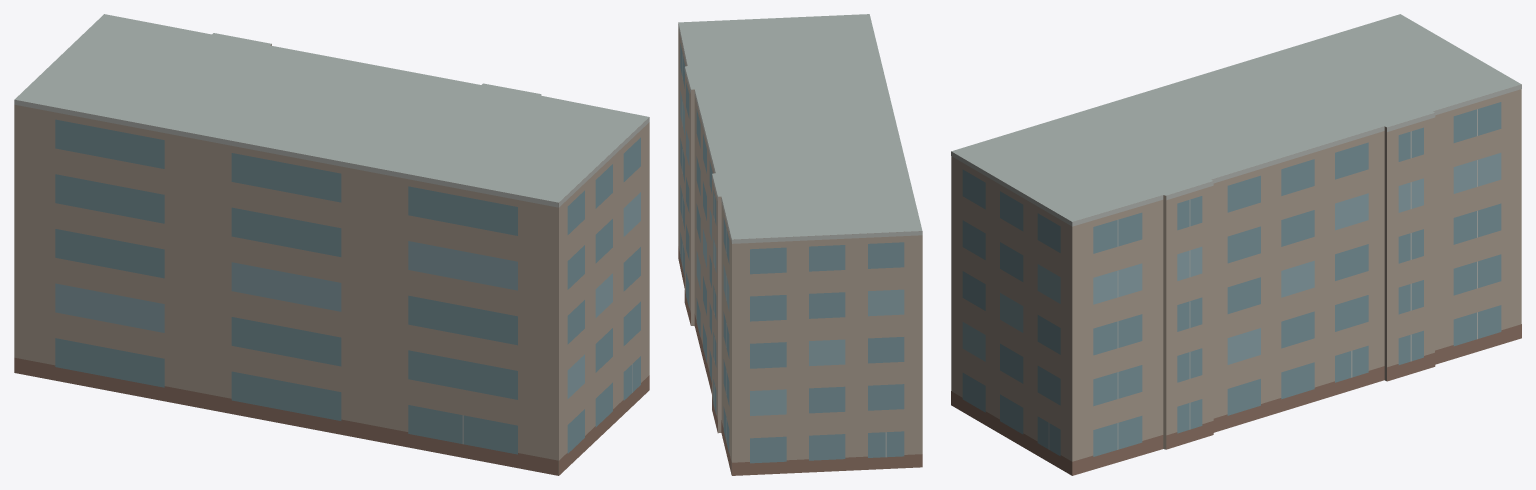
The model's file is survey-upis-32537831.glb.
3 views of the same model, side by side, from view 1: azimuth 30°, elevation 25°; view 2: azimuth 150°, elevation 25°; view 3: azimuth 270°, elevation 25° (orthographic). The views are drawn at different scales.
Parts seen in each view (by area): view 1: survey-upis-32537831.tmp; view 2: survey-upis-32537831.tmp; view 3: survey-upis-32537831.tmp.
Boxes of the visible parts, x1=… form: survey-upis-32537831.tmp: x1=14, y1=14, x2=649, y2=475; survey-upis-32537831.tmp: x1=678, y1=14, x2=922, y2=475; survey-upis-32537831.tmp: x1=951, y1=14, x2=1521, y2=475.
Size of the model in its own units: 23.37 by 13.3 by 27.09.
